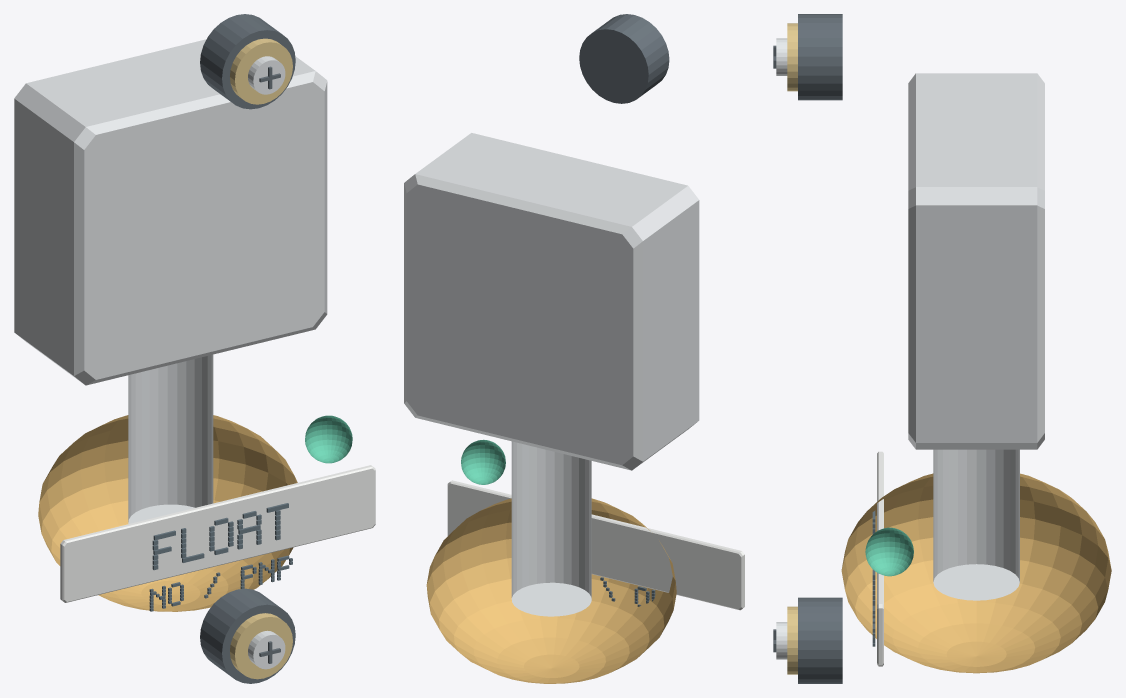
File: floatSwitch.glb
3 renders of one model, left to right at view 1: azimuth 30°, elevation 25°; view 2: azimuth 150°, elevation 25°; view 3: azimuth 270°, elevation 25°, orthographic. The views are drawn at different scales.
Parts seen in each view (by area): view 1: floatSwitch-detailed; view 2: floatSwitch-detailed; view 3: floatSwitch-detailed.
Boxes of the visible parts, <box> form: floatSwitch-detailed: <box>14,14,375,683</box>; floatSwitch-detailed: <box>404,14,744,683</box>; floatSwitch-detailed: <box>773,14,1111,683</box>.
Bounding box in the file's own units: 1.33 × 2.65 × 1.23.
